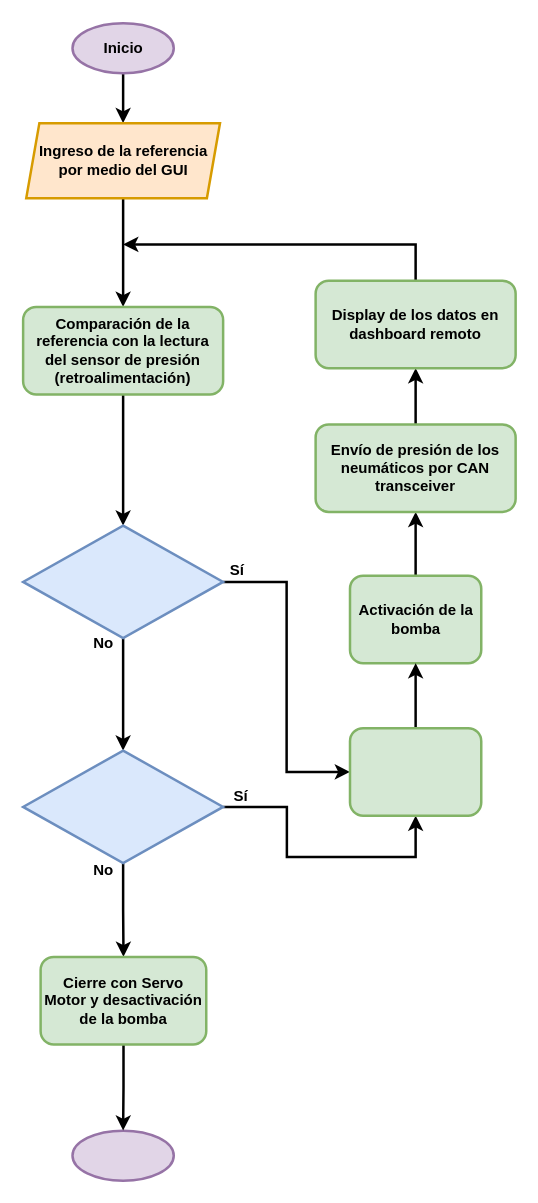
Some shapes in this 538 by 1203 pixel diagram are drawn without their labels. Each missing label, with the box of its shape:
Apertura con servo Motor: (348, 726, 482, 816)
FIN: (71, 1129, 174, 1181)
La referencia es mayor a la lectura: (21, 749, 224, 864)
La referencia es menor a la lectura: (21, 524, 224, 639)
